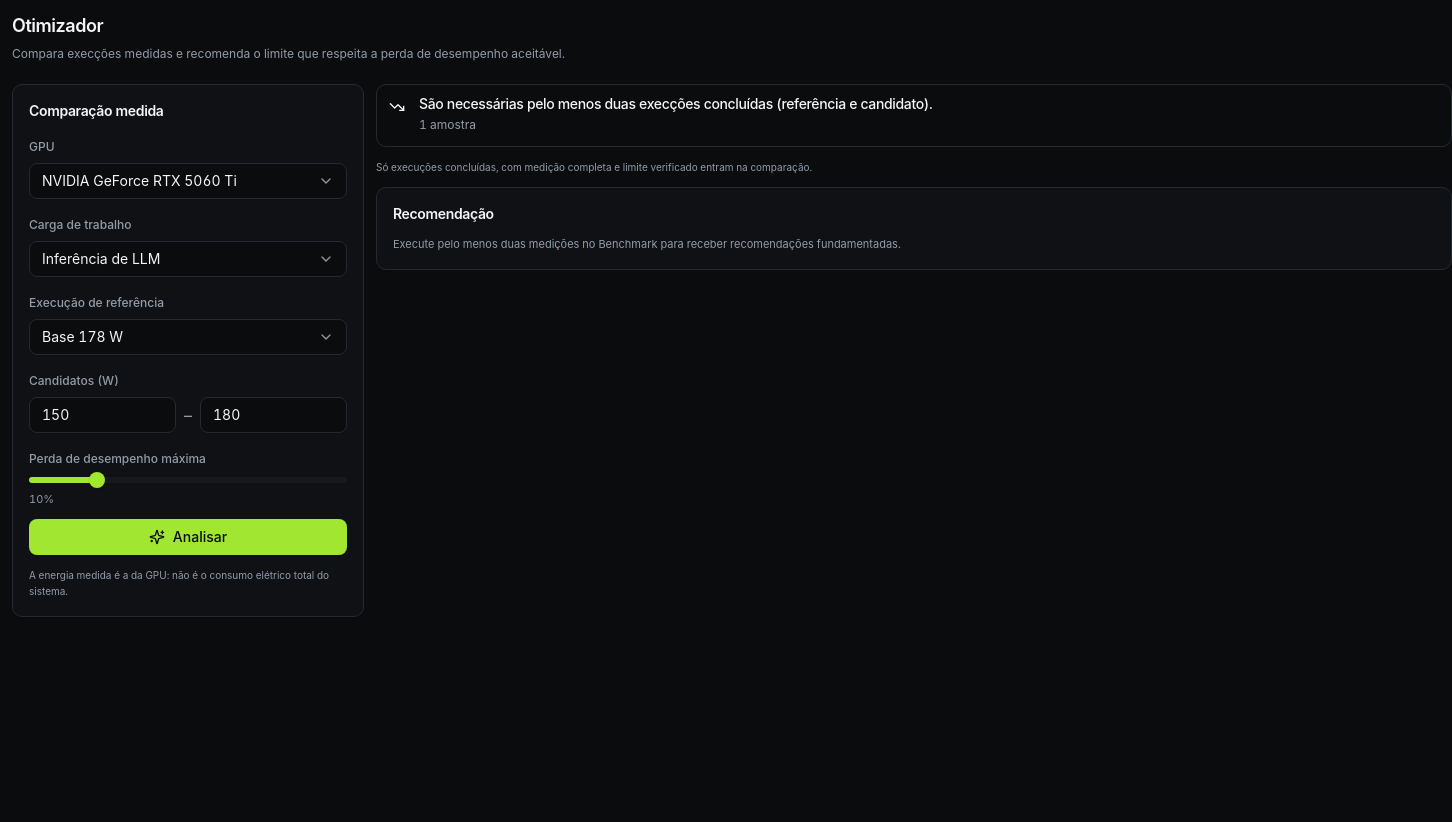
Test: OptimizerPage › says so when the service returns no recommendation
Step 1. Click the button "Analisar" → (188, 537), box [29, 519, 347, 555]
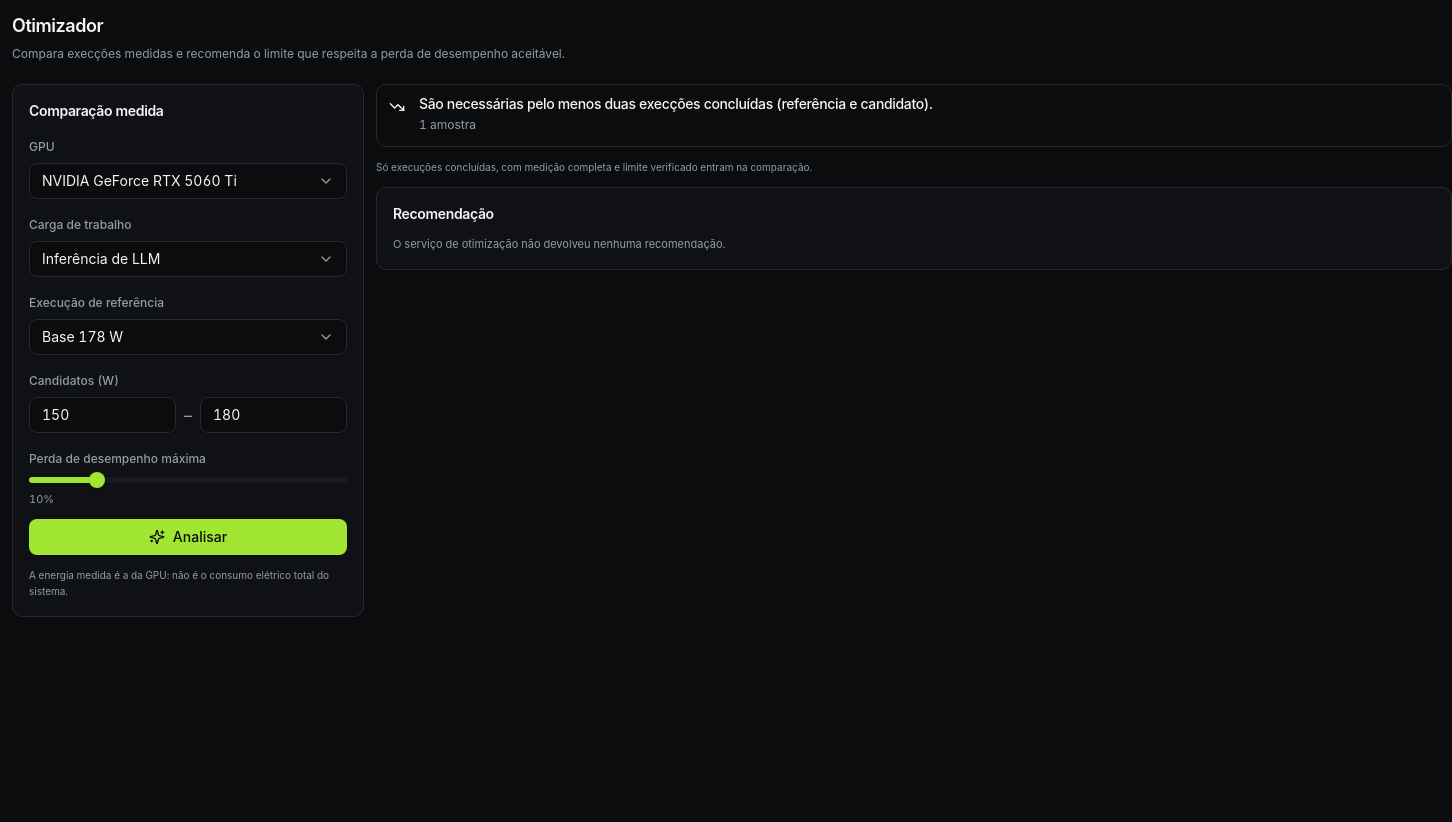
Result: the text "O serviço de otimização não devolveu nenhuma recomendação." is shown at [393, 237, 726, 251]
